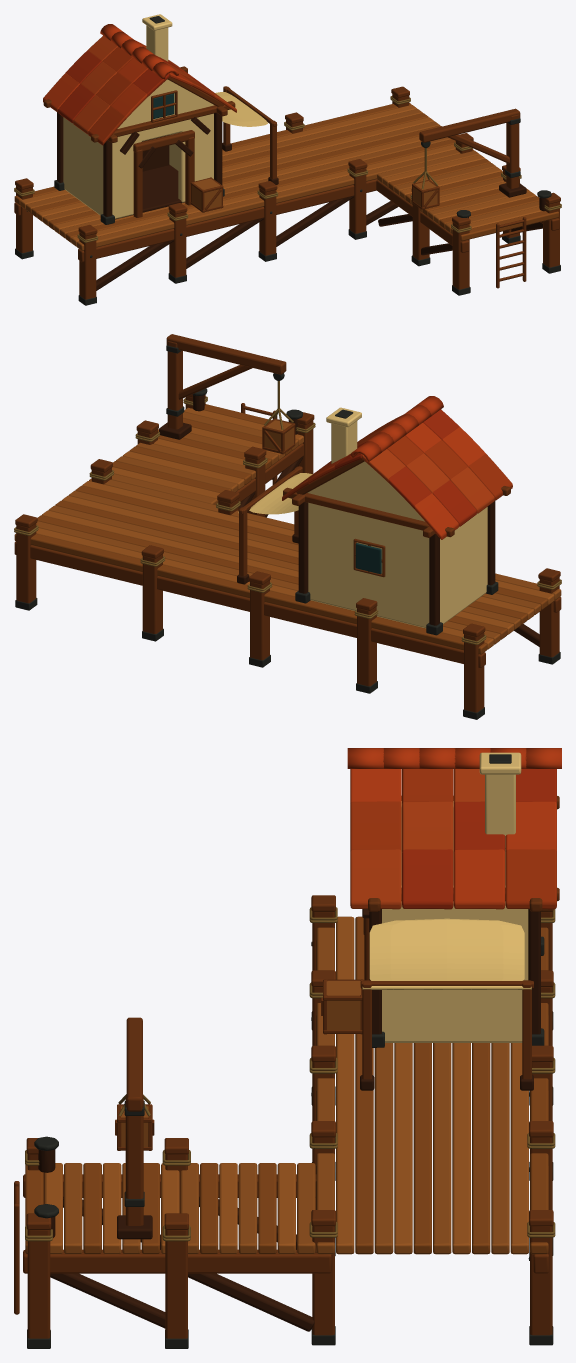
The model's file is port.obj.
3 renders of one model, top to bottom at view 1: azimuth 30°, elevation 25°; view 2: azimuth 150°, elevation 25°; view 3: azimuth 270°, elevation 25°, orthographic. The views are drawn at different scales.
Visible parts, largest first — view 1: Export_-_Quay_plank_00, Export_-_Quay_longitudinal_beam, Export_-_Style_-_Plaster_side_wall, Export_-_Quay_plank_01, Export_-_Quay_plank_02, Export_-_Style_-_Plaster_entry_pier, Export_-_Quay_plank_06, Export_-_Quay_plank_07, Export_-_Quay_plank_03, Export_-_Quay_plank_05, Export_-_Quay_plank_08, Export_-_Style_-_Interior_floor (+64 smaller); view 2: Export_-_Style_-_Plaster_rear_wall, Export_-_Quay_longitudinal_beam.001, Export_-_Quay_plank_11, Export_-_Style_-_Plaster_side_wall, Export_-_Gable_walls, Export_-_Quay_plank_07, Export_-_Quay_plank_06, Export_-_Quay_plank_05, Export_-_Quay_plank_08, Export_-_Quay_plank_04, Export_-_Quay_plank_03, Export_-_Quay_plank_02 (+52 smaller); view 3: Export_-_Style_-_Plaster_side_wall.001, Export_-_Style_-_Soft_side_canopy, Export_-_Quay_plank_01, Export_-_Finger_longitudinal_beam.001, Export_-_Quay_plank_02, Export_-_Quay_plank_03, Export_-_Quay_plank_05, Export_-_Quay_plank_06, Export_-_Quay_plank_09, Export_-_Quay_plank_04, Export_-_Quay_plank_07, Export_-_Quay_plank_08 (+48 smaller).
Boxes of the visible parts, box(x1,y1,x2,y2) form: Export_-_Quay_plank_00: box(77, 149, 473, 250); Export_-_Quay_longitudinal_beam: box(78, 179, 376, 262); Export_-_Style_-_Plaster_side_wall: box(63, 117, 112, 215); Export_-_Quay_plank_01: box(71, 144, 455, 246); Export_-_Quay_plank_02: box(65, 139, 455, 242); Export_-_Style_-_Plaster_entry_pier: box(112, 131, 141, 218); Export_-_Quay_plank_06: box(43, 121, 439, 225); Export_-_Quay_plank_07: box(37, 117, 433, 221); Export_-_Quay_plank_03: box(60, 137, 451, 238); Export_-_Quay_plank_05: box(48, 125, 441, 229); Export_-_Quay_plank_08: box(31, 113, 428, 217); Export_-_Style_-_Interior_floor: box(115, 164, 184, 219); Export_-_Style_-_Plaster_rear_wall: box(308, 503, 429, 628); Export_-_Quay_longitudinal_beam.001: box(14, 541, 485, 667); Export_-_Quay_plank_11: box(14, 533, 486, 654); Export_-_Style_-_Plaster_side_wall: box(428, 507, 487, 624); Export_-_Gable_walls: box(307, 461, 424, 521); Export_-_Quay_plank_07: box(42, 510, 513, 634); Export_-_Quay_plank_06: box(48, 505, 520, 629); Export_-_Quay_plank_05: box(55, 500, 527, 624); Export_-_Quay_plank_08: box(37, 515, 507, 639); Export_-_Quay_plank_04: box(62, 495, 534, 619); Export_-_Quay_plank_03: box(68, 490, 540, 614); Export_-_Quay_plank_02: box(75, 485, 547, 609); Export_-_Style_-_Plaster_side_wall.001: box(382, 885, 528, 1042); Export_-_Style_-_Soft_side_canopy: box(369, 918, 524, 980); Export_-_Quay_plank_01: box(336, 916, 354, 1254); Export_-_Finger_longitudinal_beam.001: box(23, 1249, 321, 1273); Export_-_Quay_plank_02: box(355, 916, 373, 1254); Export_-_Quay_plank_03: box(374, 1043, 393, 1254); Export_-_Quay_plank_05: box(413, 1043, 431, 1254); Export_-_Quay_plank_06: box(433, 1043, 451, 1254); Export_-_Quay_plank_09: box(491, 1043, 509, 1254); Export_-_Quay_plank_04: box(394, 1043, 412, 1254); Export_-_Quay_plank_07: box(452, 1043, 470, 1254); Export_-_Quay_plank_08: box(472, 1043, 490, 1254).
Bounding box in the file's own units: 12.1 × 6.3 × 8.46.
